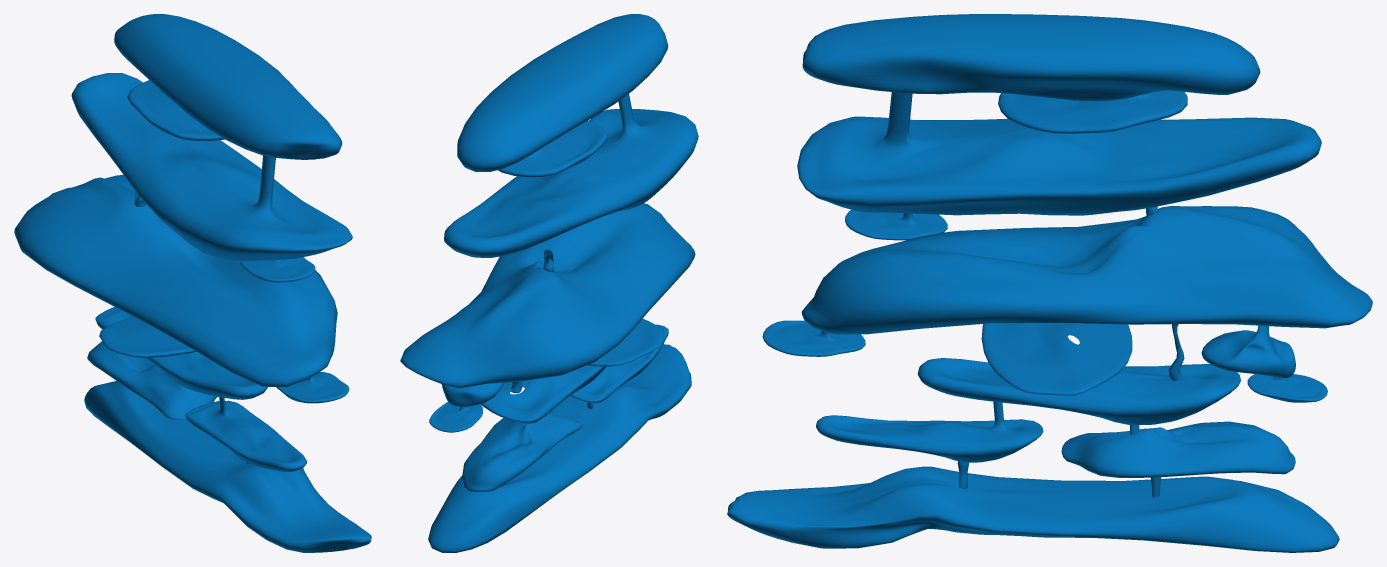
File: RE Rugoso.a9e4d31a.glb
3 views of the same model, side by side, from view 1: azimuth 30°, elevation 25°; view 2: azimuth 150°, elevation 25°; view 3: azimuth 270°, elevation 25° (orthographic). The views are drawn at different scales.
Visible parts, largest first — view 1: Sphere; view 2: Sphere; view 3: Sphere.
Part boxes in pixels (x1,y1,x2,y2): Sphere: (14, 14, 371, 552); Sphere: (400, 14, 698, 552); Sphere: (727, 14, 1372, 552).
Bounding box in the file's own units: 1.24 × 2.55 × 2.9.
